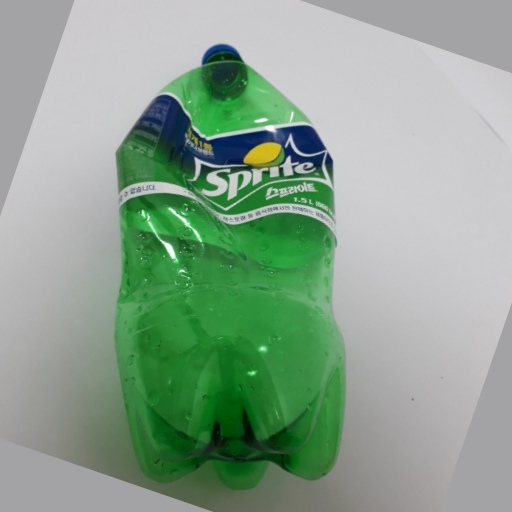Plastic_0: (110, 39, 352, 490)
